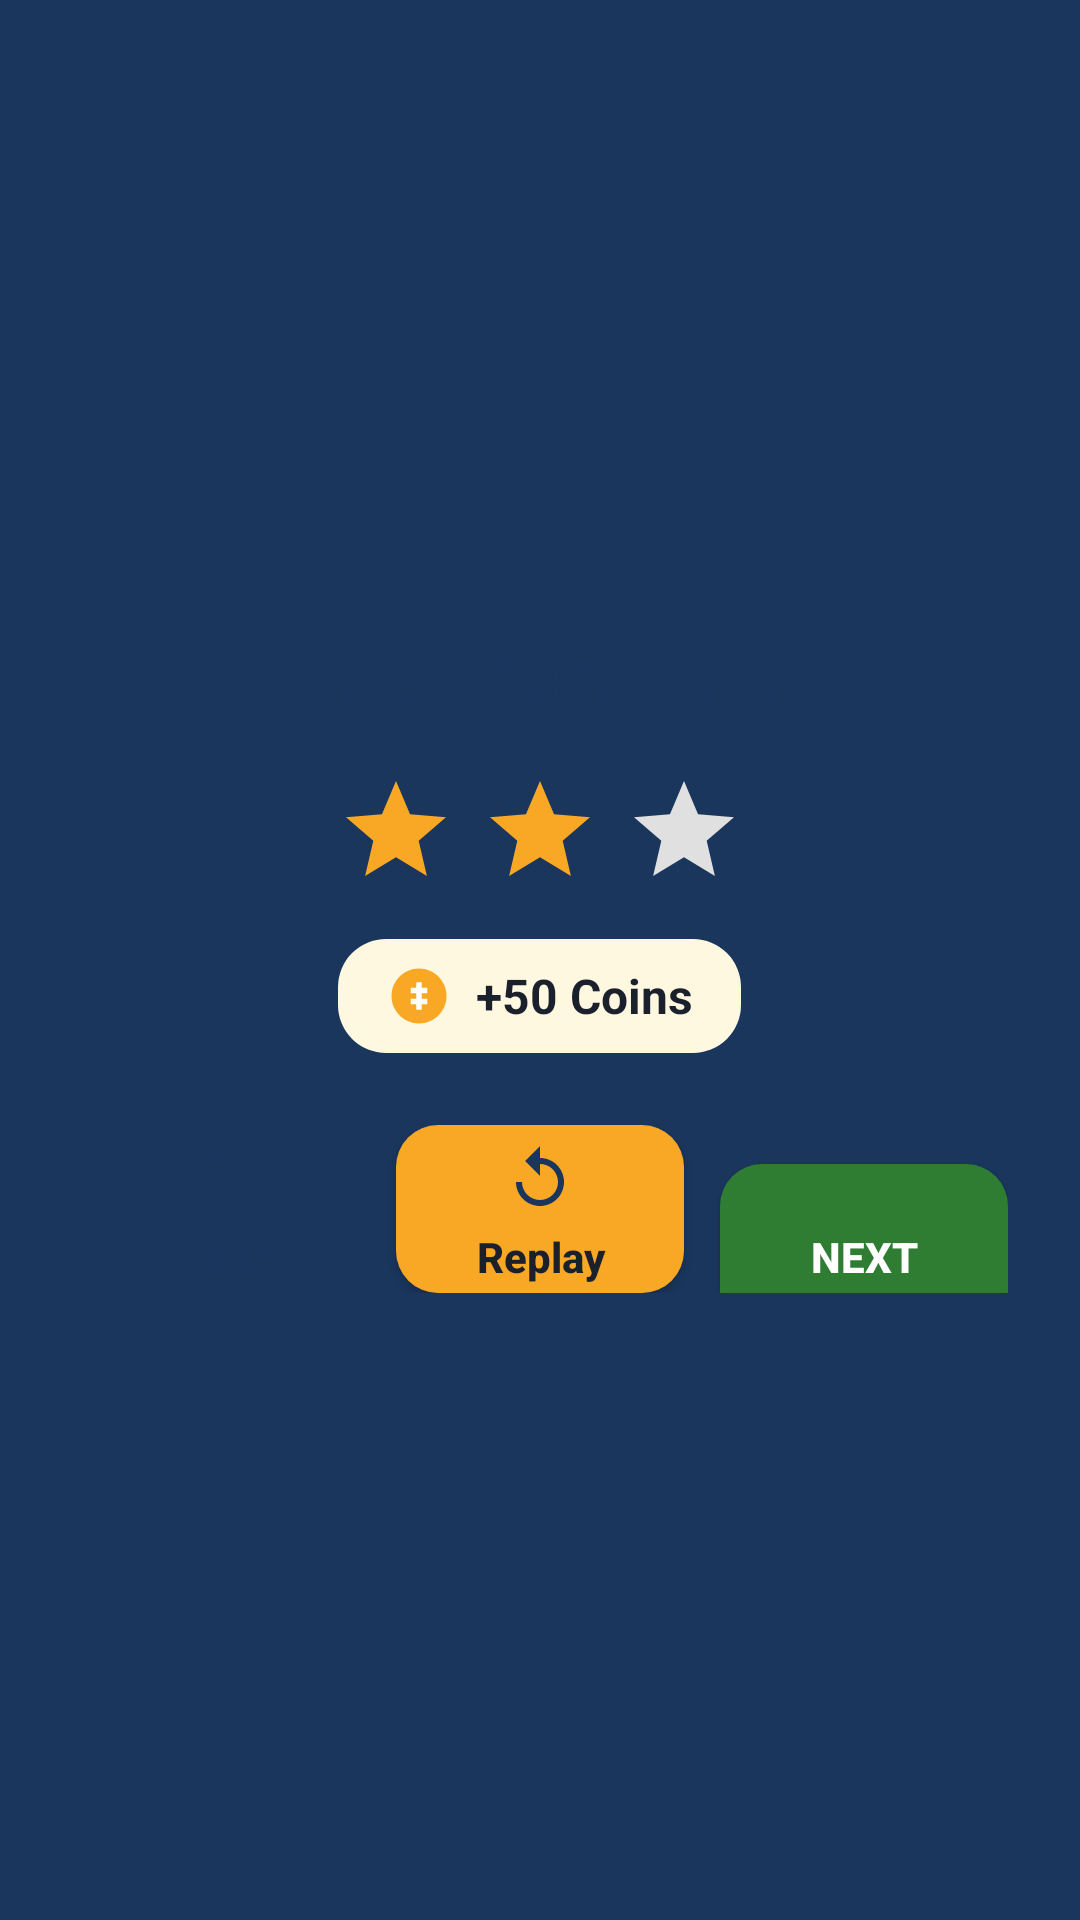

Named icons in this screenshot (1080x1920) and their bounding boxes, (x1, y1, x2, y2):
star: (346, 781, 446, 876), (490, 781, 590, 876)
star empty: (634, 781, 734, 876)
